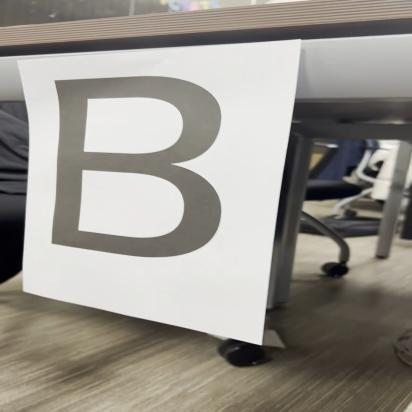seat: (41, 64, 242, 283)
